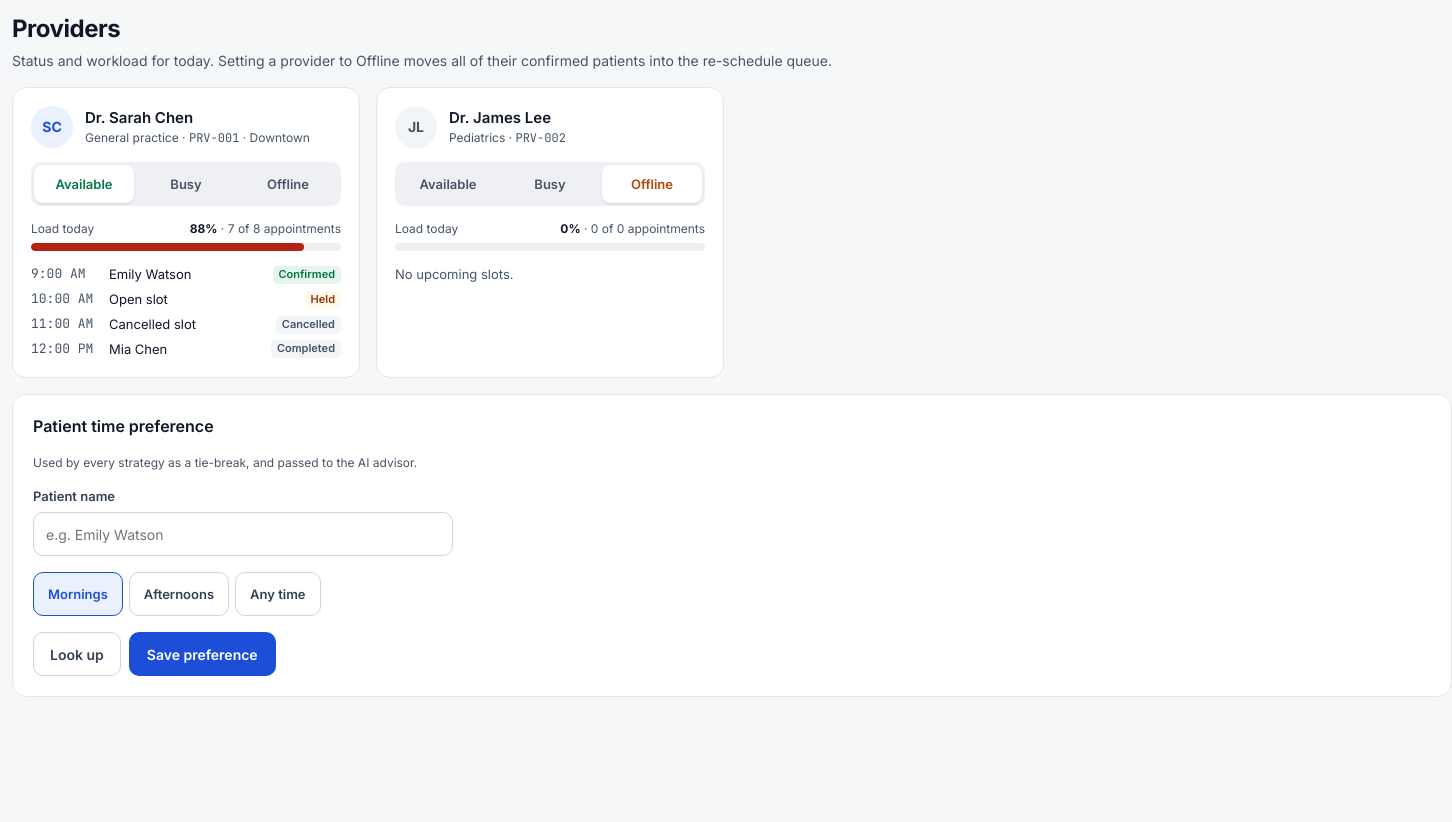
PreferenceEditor › looks up the current preference and selects it
The width and height of the screenshot is (1452, 822).
In the field labelled "Patient name": point(243, 534) [33,512,453,556], type " Emily Watson "
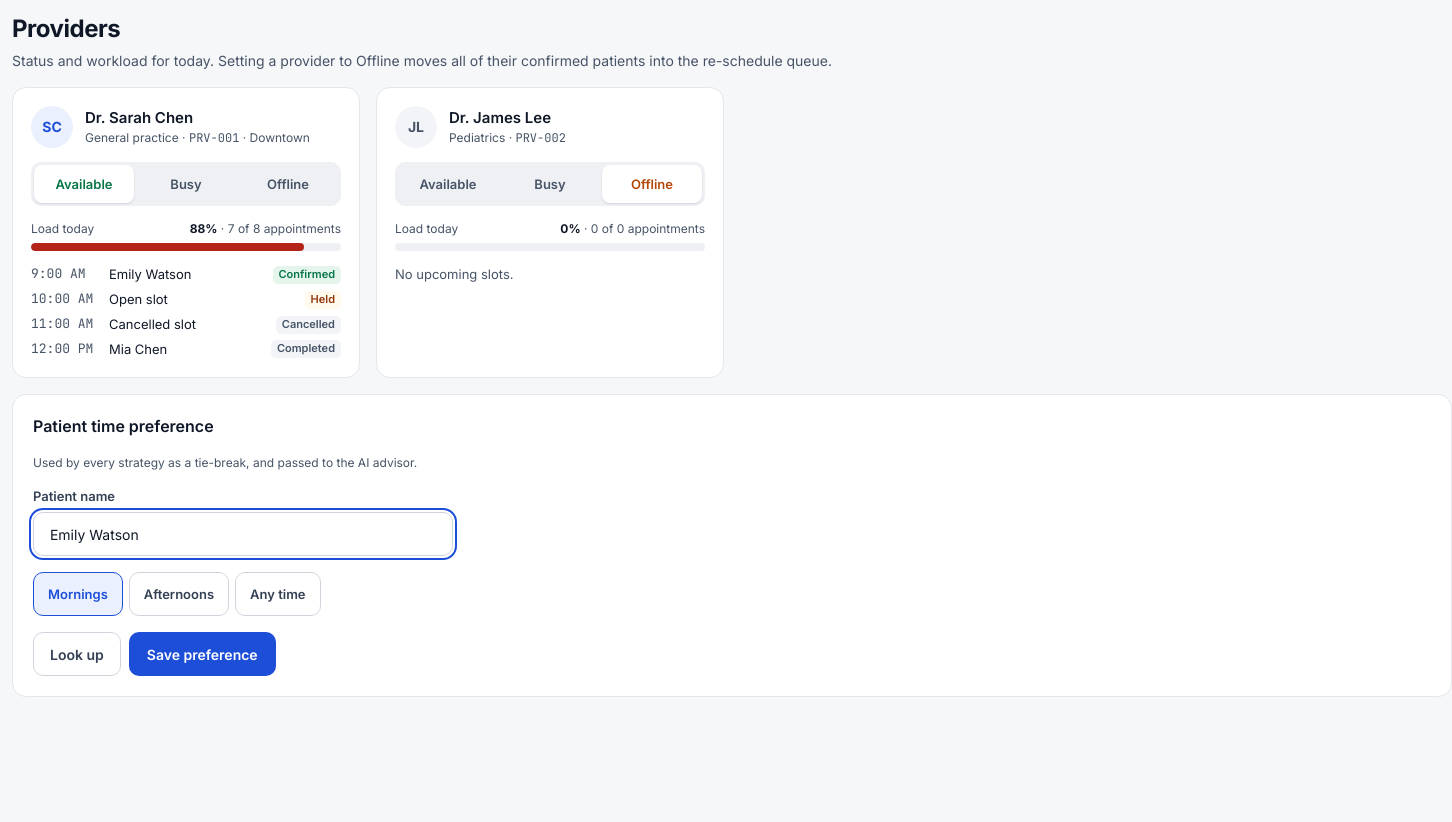
Click the button "Look up": point(77, 654) [33,632,121,676]
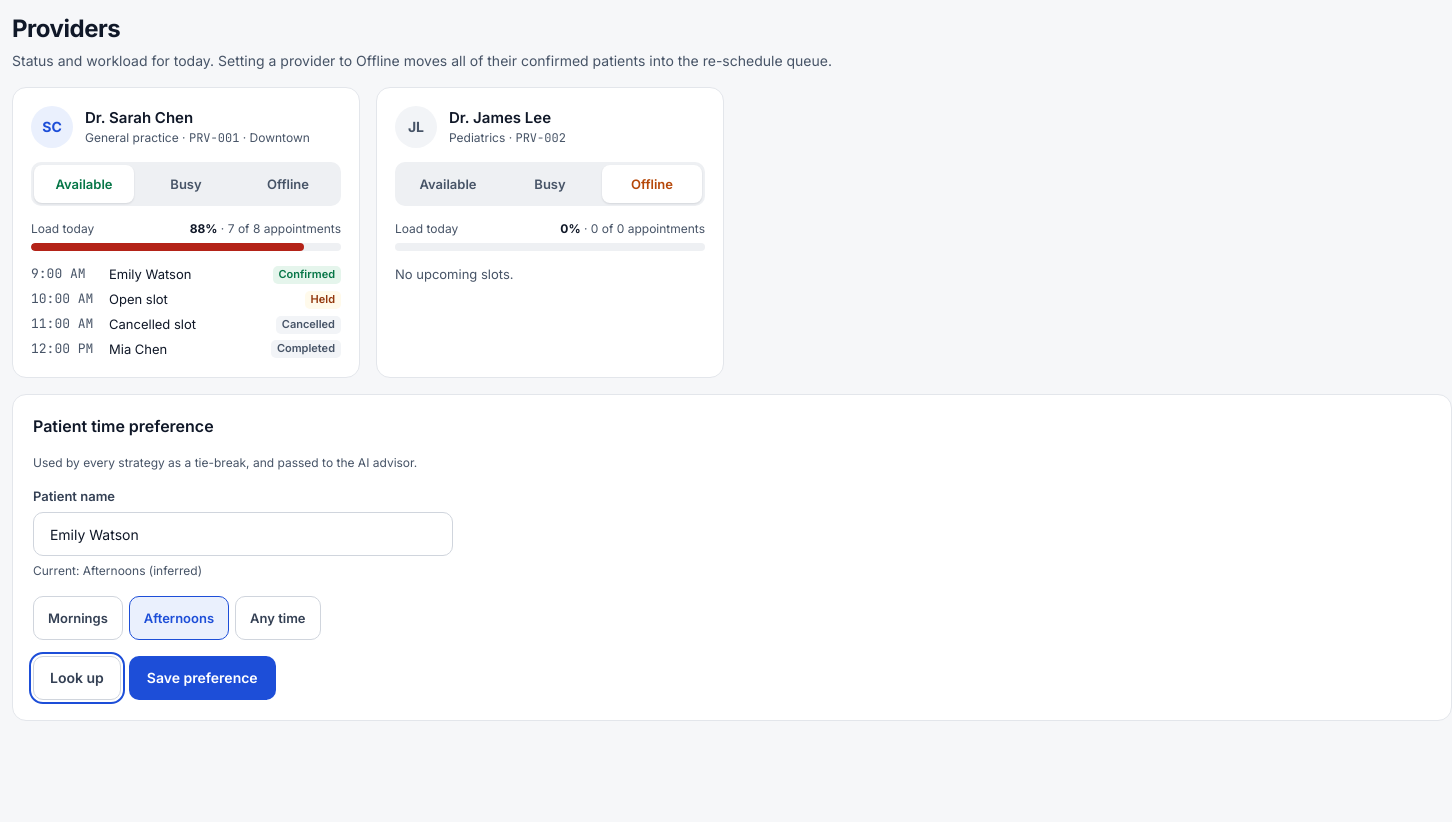
Now the text "Current: Afternoons (inferred)" is shown, box [33,563,202,578]
